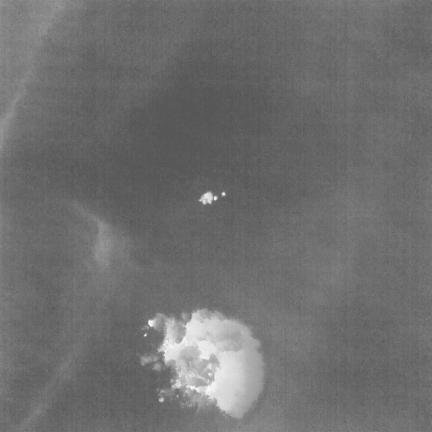flukeprints: (142, 309, 264, 418)
